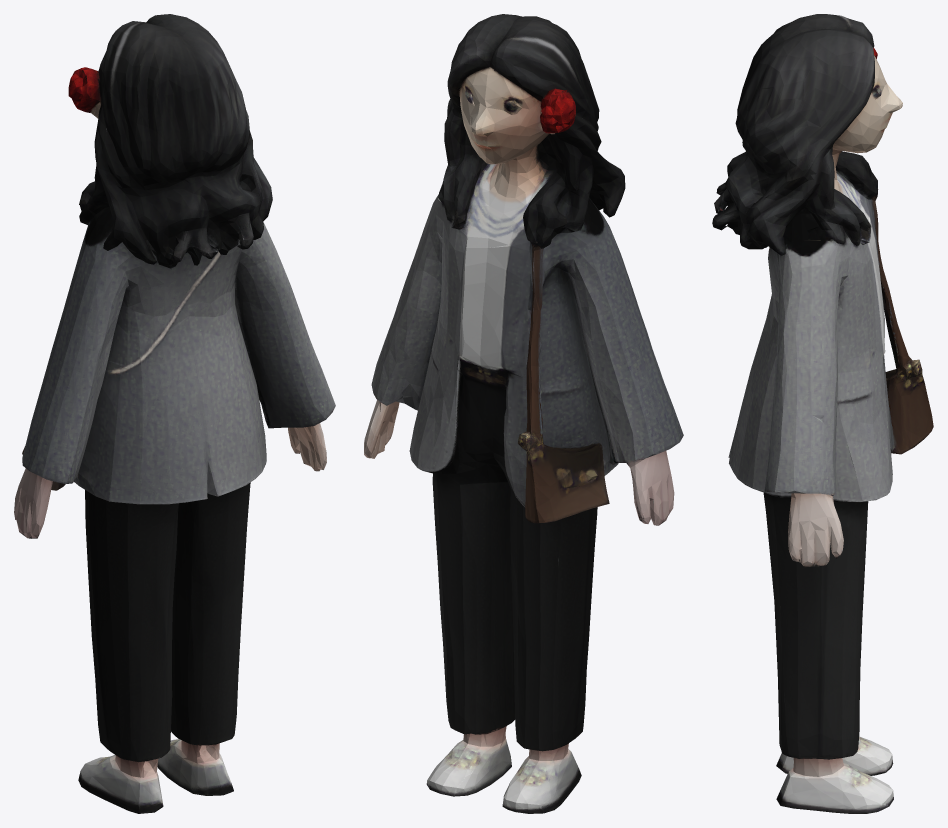
Rendered from sample.glb.
3 views of the same model, side by side, from view 1: azimuth 30°, elevation 25°; view 2: azimuth 150°, elevation 25°; view 3: azimuth 270°, elevation 25° (orthographic).
Parts seen in each view (by area): view 1: world; view 2: world; view 3: world.
Part boxes in pixels (<box>): world: <box>14,14,335,813</box>; world: <box>364,14,683,813</box>; world: <box>712,14,933,813</box>.
Bounding box in the file's own units: 0.4127 × 0.9993 × 0.264.
1 material, 1 textured.
